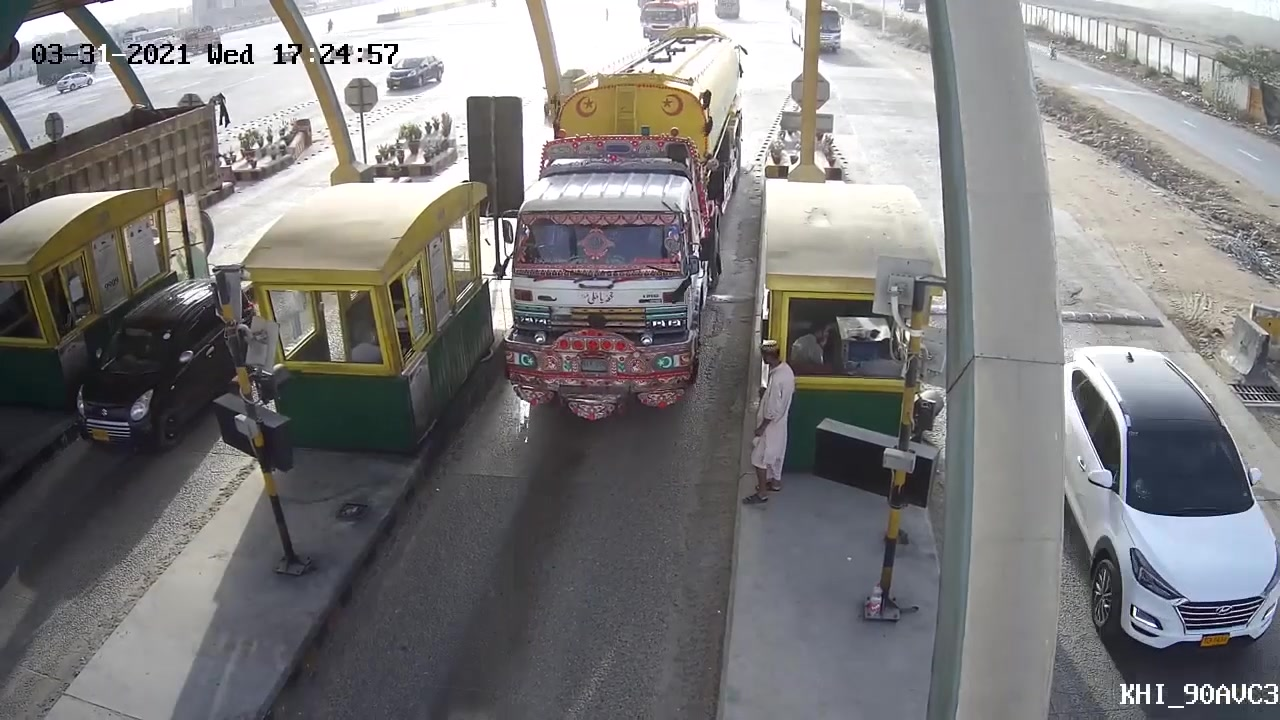F6: (486, 31, 753, 431)
